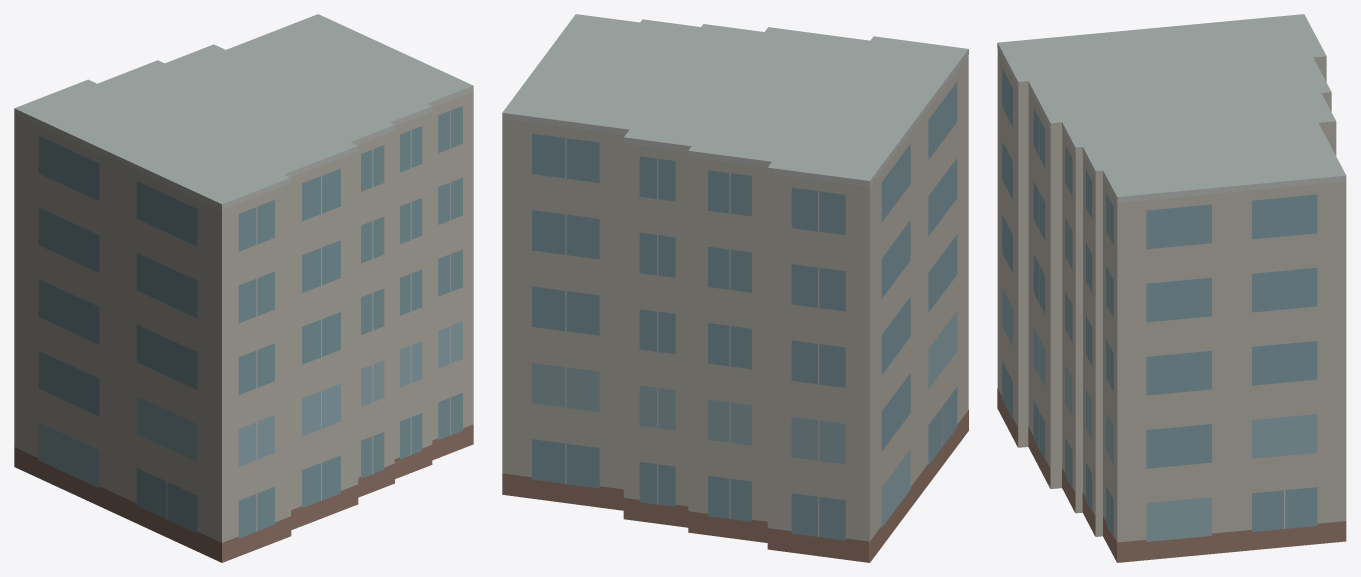
Rendered from survey-upis-32698181.glb.
The picture shows the model from 3 angles, left to right: view 1: azimuth 30°, elevation 25°; view 2: azimuth 150°, elevation 25°; view 3: azimuth 270°, elevation 25°; orthographic projection. The views are drawn at different scales.
Parts seen in each view (by area): view 1: survey-upis-32698181.tmp; view 2: survey-upis-32698181.tmp; view 3: survey-upis-32698181.tmp.
Boxes of the visible parts, left/top/right/bottom form: survey-upis-32698181.tmp: left=14, top=14, right=473, bottom=562; survey-upis-32698181.tmp: left=502, top=14, right=968, bottom=562; survey-upis-32698181.tmp: left=997, top=14, right=1346, bottom=562.
Size of the model in its own units: 16.43 by 15.3 by 13.23.
